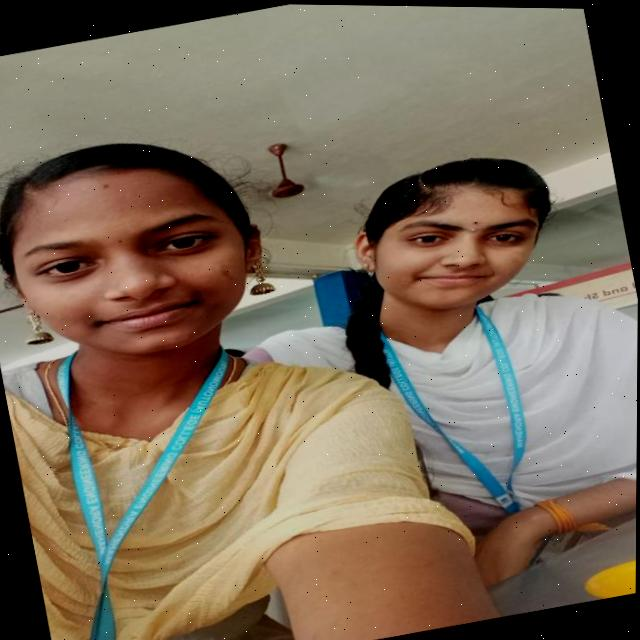id_card: (26, 319, 298, 640), (360, 276, 578, 539)
